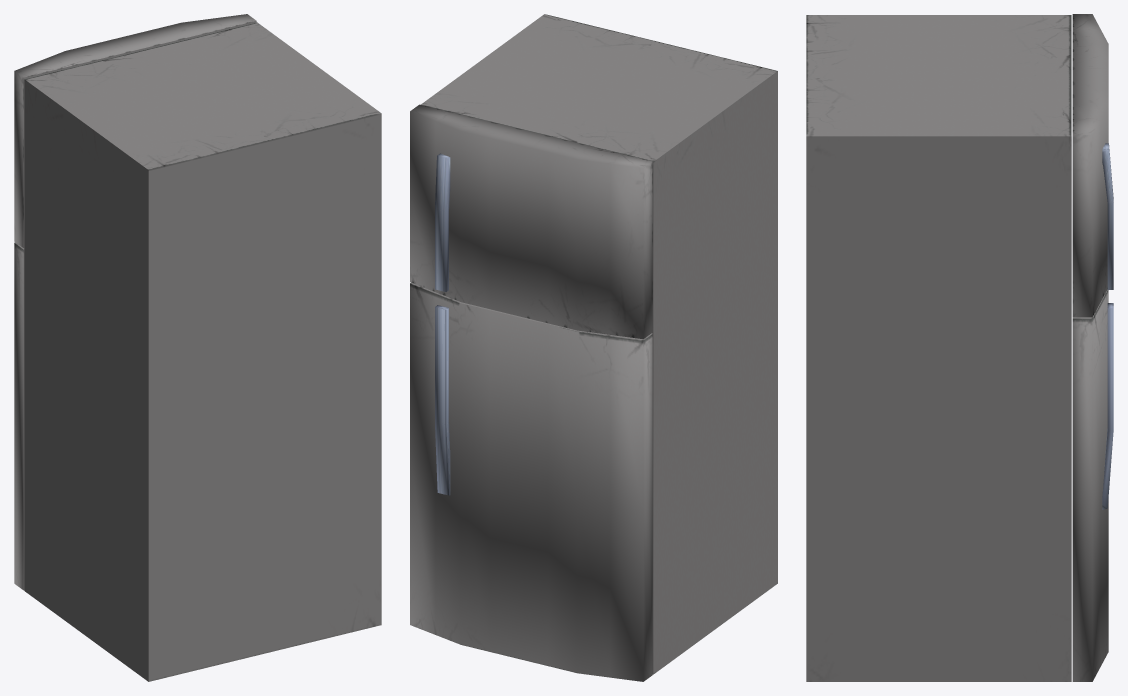
File: geladeira_TEXTURIZADA 1.fbx
The picture shows the model from 3 angles, left to right: view 1: azimuth 30°, elevation 25°; view 2: azimuth 150°, elevation 25°; view 3: azimuth 270°, elevation 25°; orthographic projection. The views are drawn at different scales.
Parts seen in each view (by area): view 1: Cube.077; view 2: Cube.077; view 3: Cube.077.
Part boxes in pixels (left/top/right/bottom): Cube.077: left=14, top=14, right=381, bottom=681; Cube.077: left=410, top=14, right=777, bottom=681; Cube.077: left=806, top=14, right=1113, bottom=681.
Size of the model in its own units: 95.27 by 200 by 102.
Materials: 1 (1 with a texture image).
